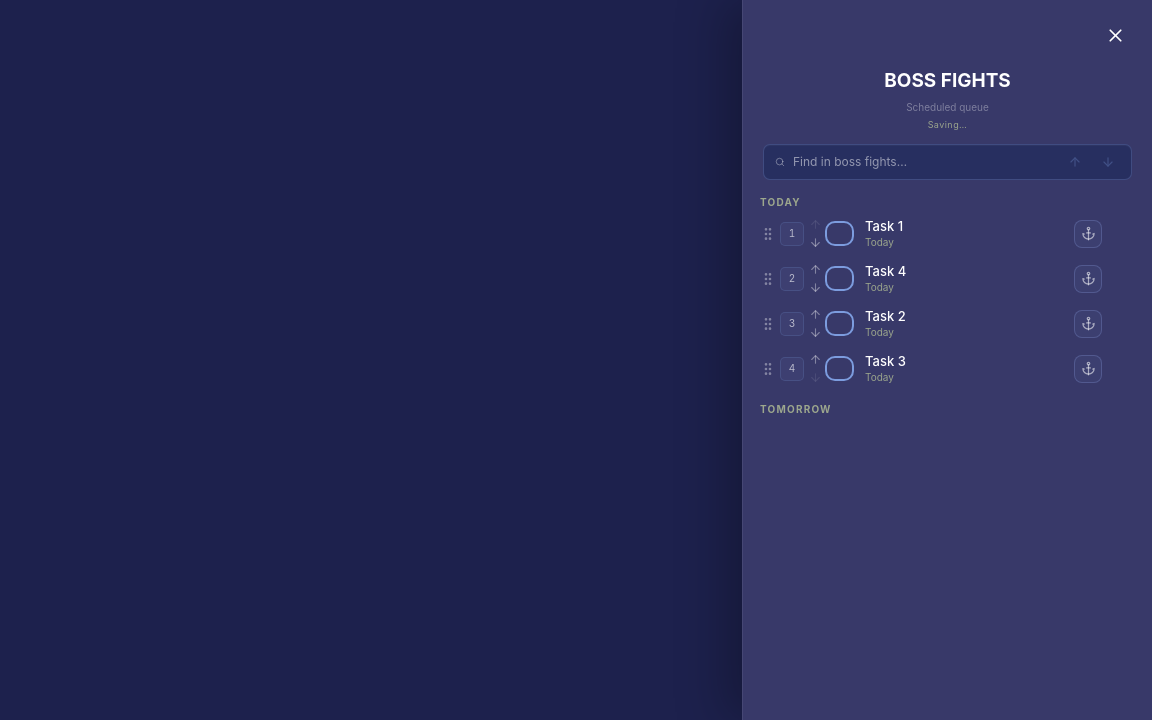
Test case: B1.5 direct drag intent › canonical conflict restores the queue, explains the constraint and cancels queued saves
What coordinates should you click on to do the following:
click the button named "Move Task 4 up"
I would click on:
 (815, 270)
Its box is x1=806 y1=260 x2=824 y2=278.
Wait 180 ms
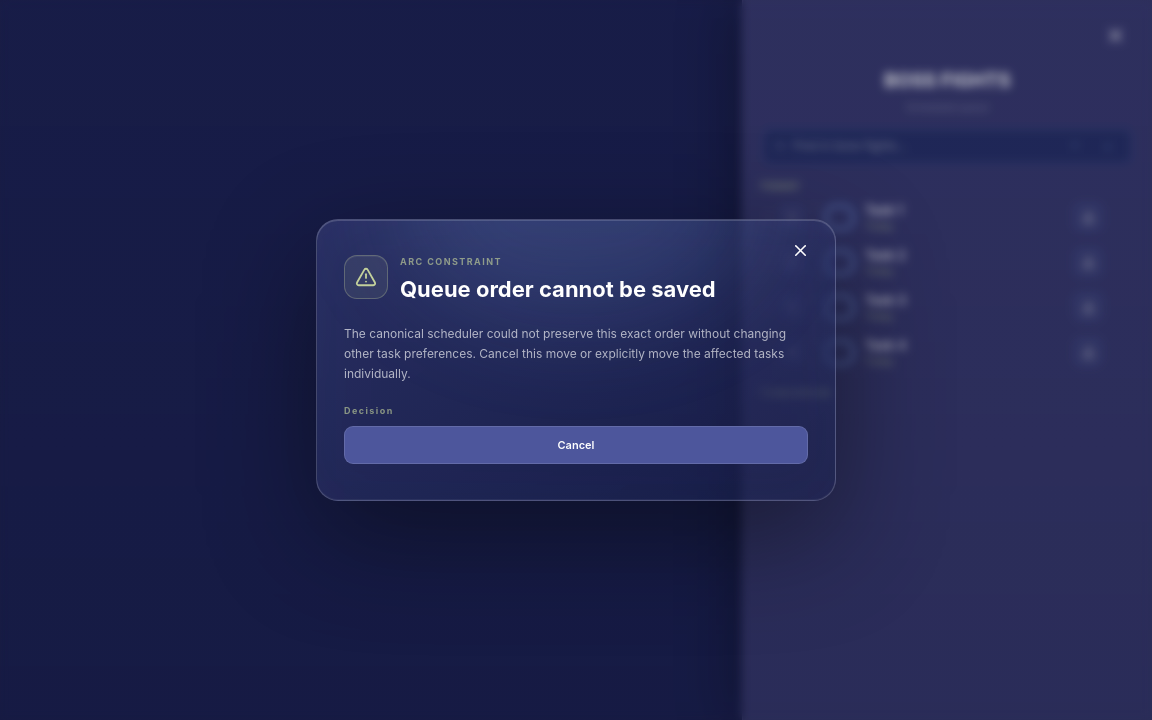
expect the heading "Queue order cannot be saved" is shown: met, box x1=400 y1=273 x2=716 y2=306
